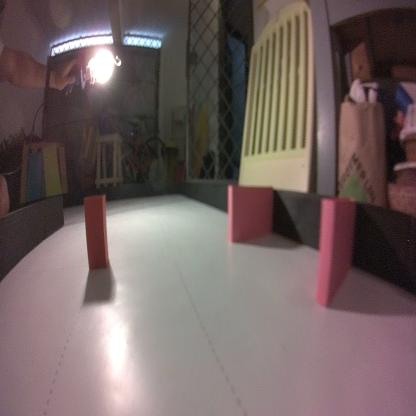magenta: (314, 196, 357, 314), (225, 181, 276, 246)
red: (82, 191, 109, 270)
